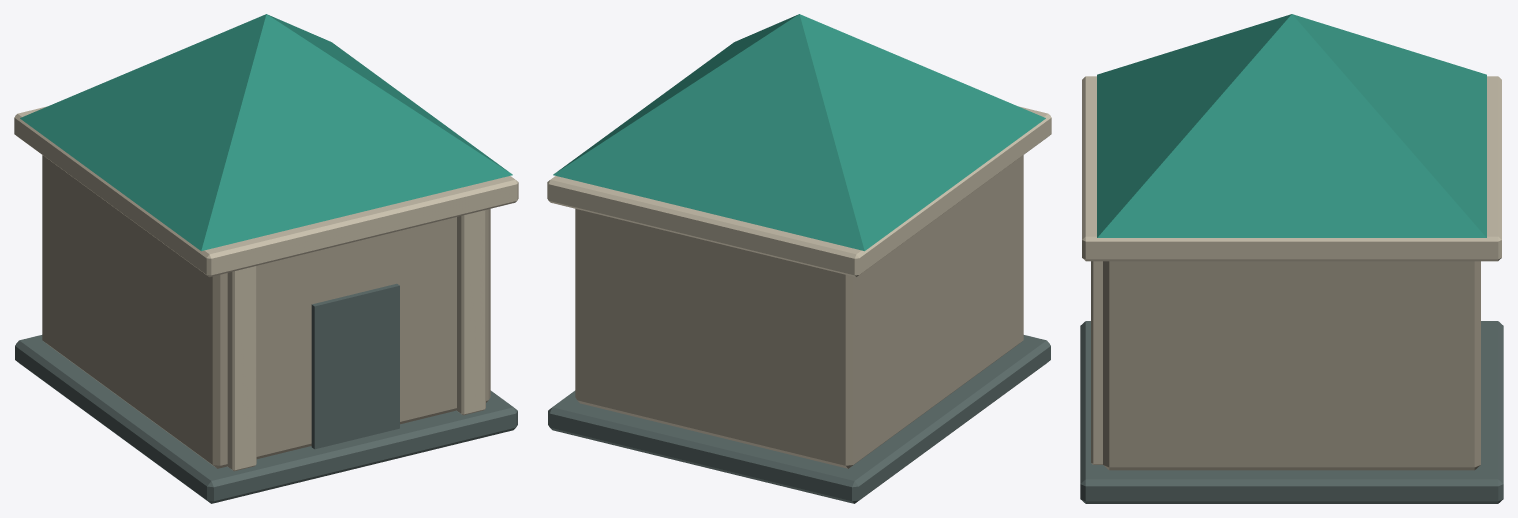
File: barracks-teal.glb
The picture shows the model from 3 angles, left to right: view 1: azimuth 30°, elevation 25°; view 2: azimuth 150°, elevation 25°; view 3: azimuth 270°, elevation 25°; orthographic projection. The views are drawn at different scales.
Parts seen in each view (by area): view 1: footing; view 2: footing; view 3: footing.
Part boxes in pixels (x1,y1,x2,y2): footing: [14, 14, 518, 503]; footing: [547, 14, 1051, 503]; footing: [1080, 14, 1503, 503].
Size of the model in its own units: 2.56 by 3 by 2.8.
